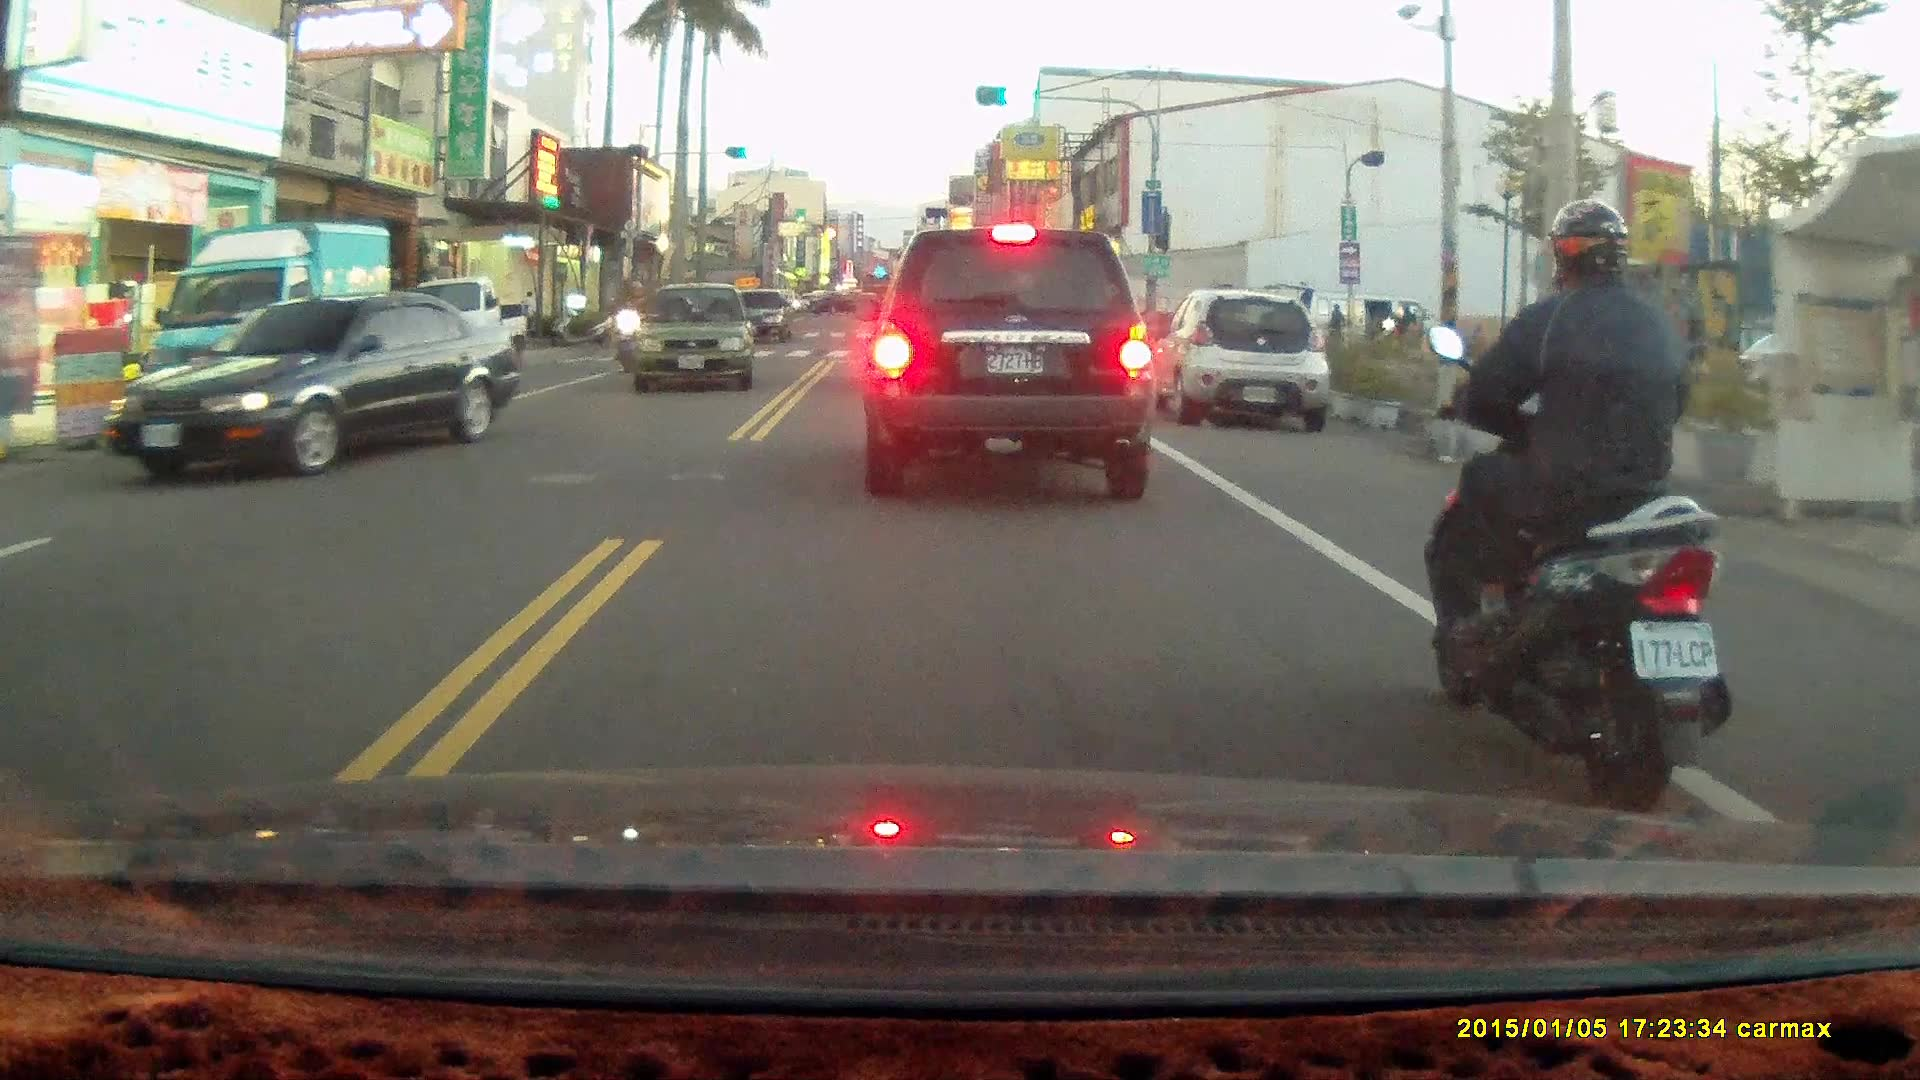rider: (1421, 189, 1732, 814), (608, 279, 655, 373)
vehicle: (860, 224, 1155, 503), (107, 292, 523, 483), (139, 222, 401, 420), (1158, 286, 1332, 434), (629, 278, 758, 397), (403, 273, 531, 383)
